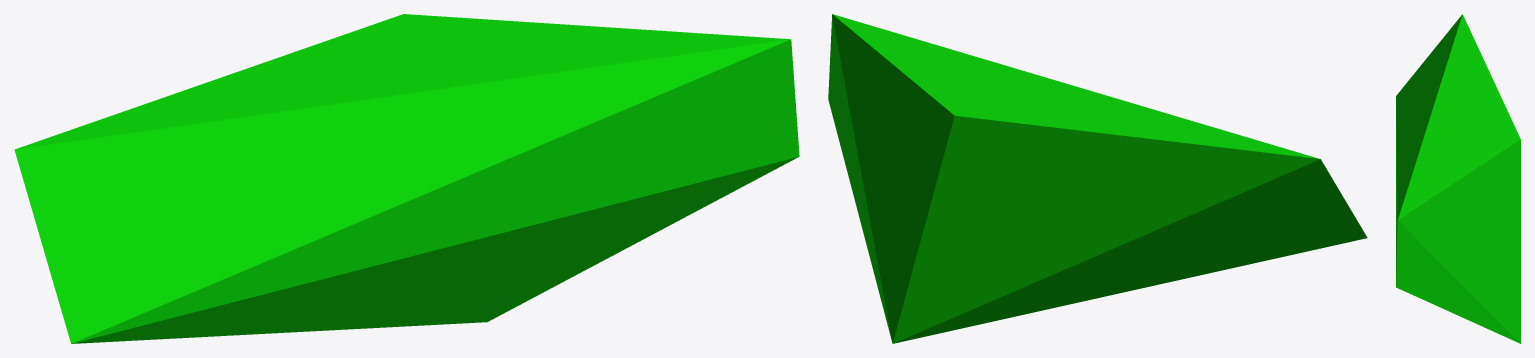
Rendered from garden_table_convex_piece_006.obj.
3 renders of one model, left to right at view 1: azimuth 30°, elevation 25°; view 2: azimuth 150°, elevation 25°; view 3: azimuth 270°, elevation 25°, orthographic. The views are drawn at different scales.
Size of the model in its own units: 0.1293 by 0.0576 by 0.0346.
